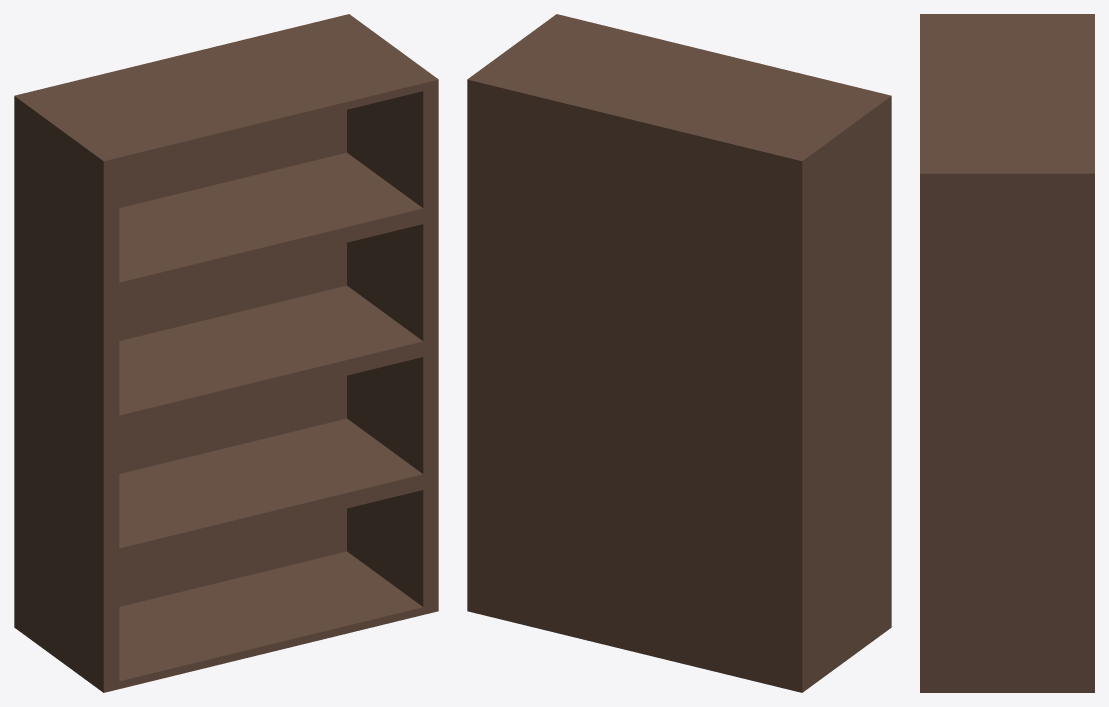
File: bookshelf.fbx
The picture shows the model from 3 angles, left to right: view 1: azimuth 30°, elevation 25°; view 2: azimuth 150°, elevation 25°; view 3: azimuth 270°, elevation 25°; orthographic projection. The views are drawn at different scales.
Parts seen in each view (by area): view 1: pCube1; view 2: pCube1; view 3: pCube1.
Boxes of the visible parts, x1,y1,x2,y2 form: pCube1: (14,14,438,692); pCube1: (467,14,891,692); pCube1: (920,14,1094,692).
Size of the model in its own units: 0.9343 by 1.42 by 0.4325.
